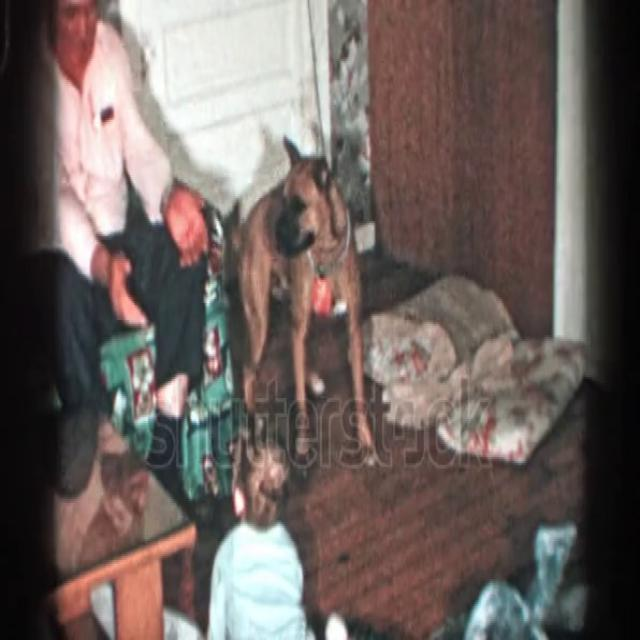normal_animals: (221, 132, 380, 474)
